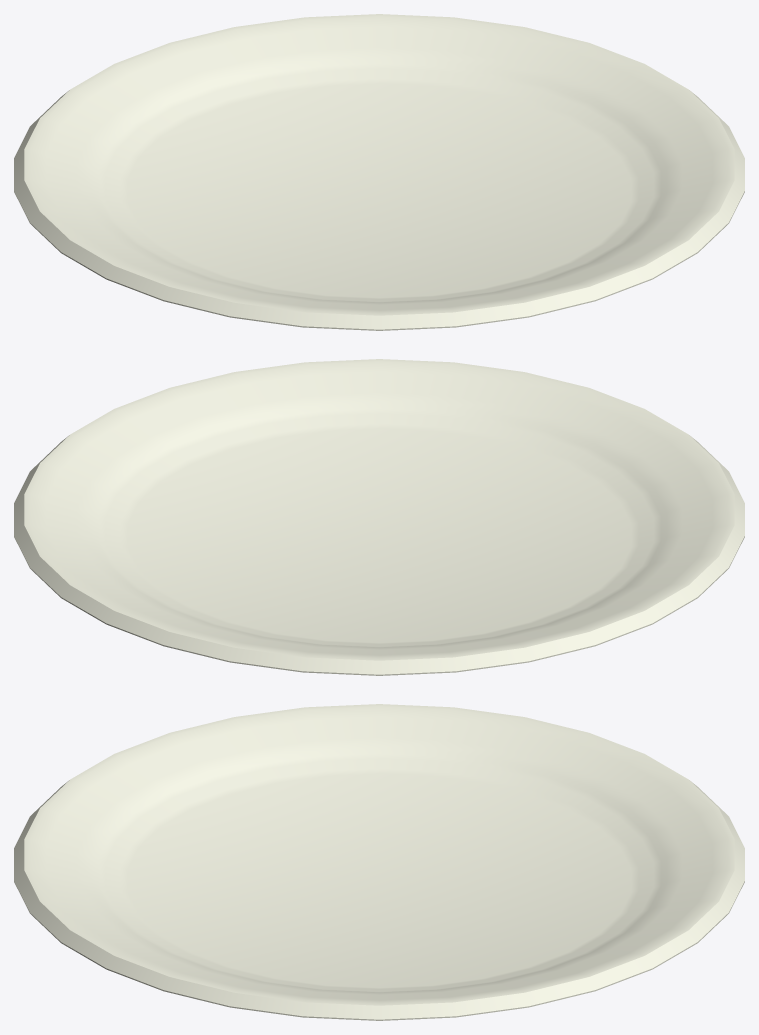
The model's file is Plate.FBX.
The picture shows the model from 3 angles, top to bottom: view 1: azimuth 30°, elevation 25°; view 2: azimuth 150°, elevation 25°; view 3: azimuth 270°, elevation 25°; orthographic projection.
Parts seen in each view (by area): view 1: Cylinder001; view 2: Cylinder001; view 3: Cylinder001.
Boxes of the visible parts, bbox=[...] form: Cylinder001: bbox=[14, 14, 744, 330]; Cylinder001: bbox=[14, 359, 744, 675]; Cylinder001: bbox=[14, 704, 744, 1020].
Size of the model in its own units: 103 by 10.74 by 102.
Materials: 1 (1 with a texture image).
